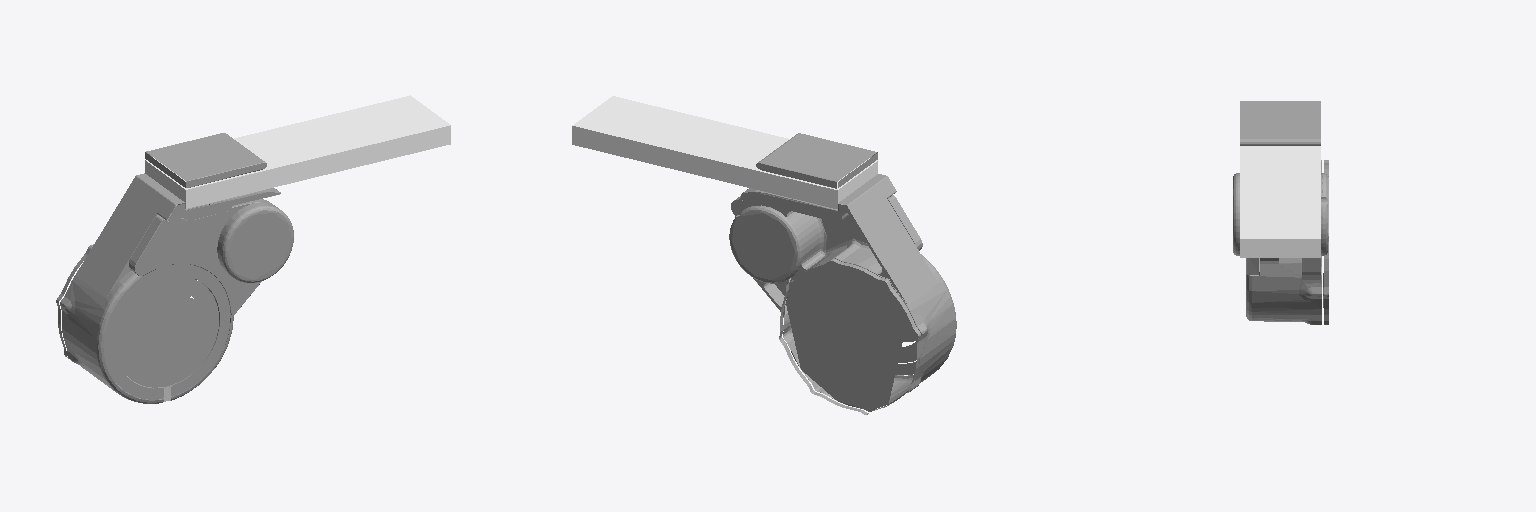
The model's file is knee.obj.
3 views of the same model, side by side, from view 1: azimuth 30°, elevation 25°; view 2: azimuth 150°, elevation 25°; view 3: azimuth 270°, elevation 25° (orthographic).
Visible parts, largest first — view 1: __TMPOBJ_____TMPMESH__.066; view 2: __TMPOBJ_____TMPMESH__.066; view 3: __TMPOBJ_____TMPMESH__.066.
Boxes of the visible parts, x1,y1,x2,y2 form: __TMPOBJ_____TMPMESH__.066: [56, 95, 450, 403]; __TMPOBJ_____TMPMESH__.066: [572, 96, 956, 414]; __TMPOBJ_____TMPMESH__.066: [1233, 101, 1328, 324].
Size of the model in its own units: 0.2482 by 0.1506 by 0.0603.